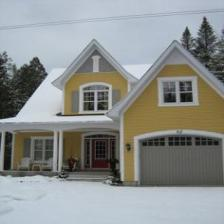yellow: (0, 39, 224, 186)
